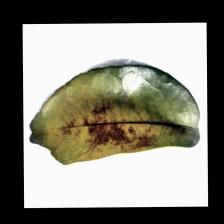canker: (52, 91, 196, 153)
